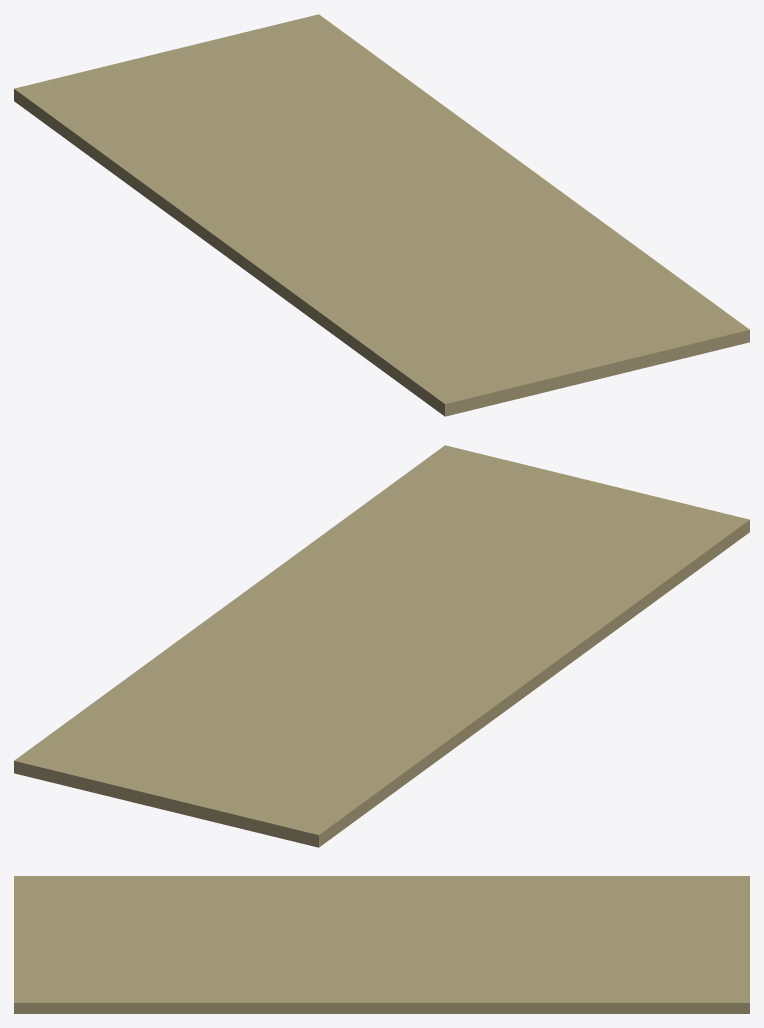
The model's file is Teto.fbx.
3 renders of one model, top to bottom at view 1: azimuth 30°, elevation 25°; view 2: azimuth 150°, elevation 25°; view 3: azimuth 270°, elevation 25°, orthographic. The views are drawn at different scales.
Visible parts, largest first — view 1: Teto; view 2: Teto; view 3: Teto.
Part boxes in pixels (<box>): Teto: <box>14,14,749,416</box>; Teto: <box>14,445,749,847</box>; Teto: <box>14,876,749,1013</box>.
Bounding box in the file's own units: 1228 × 48.24 × 3007.
